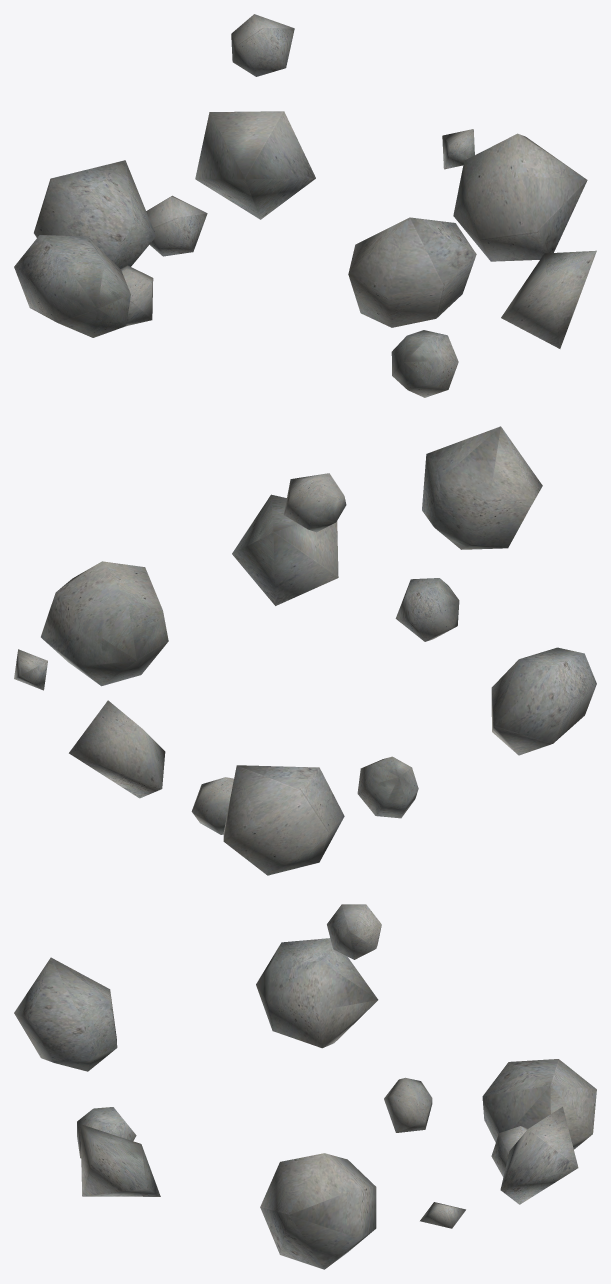
File: stone_effect12.obj
3 views of the same model, one above another, from view 1: azimuth 30°, elevation 25°; view 2: azimuth 150°, elevation 25°; view 3: azimuth 270°, elevation 25° (orthographic). The views are drawn at different scales.
Visible parts, largest first — view 1: Sphere011; view 2: Sphere011; view 3: Sphere011.
Part boxes in pixels (x1,y1,x2,y2): Sphere011: (14, 14, 596, 397); Sphere011: (14, 426, 596, 875); Sphere011: (14, 904, 596, 1269).
Size of the model in its own units: 231 by 130 by 240.
Materials: 1 (1 with a texture image).
